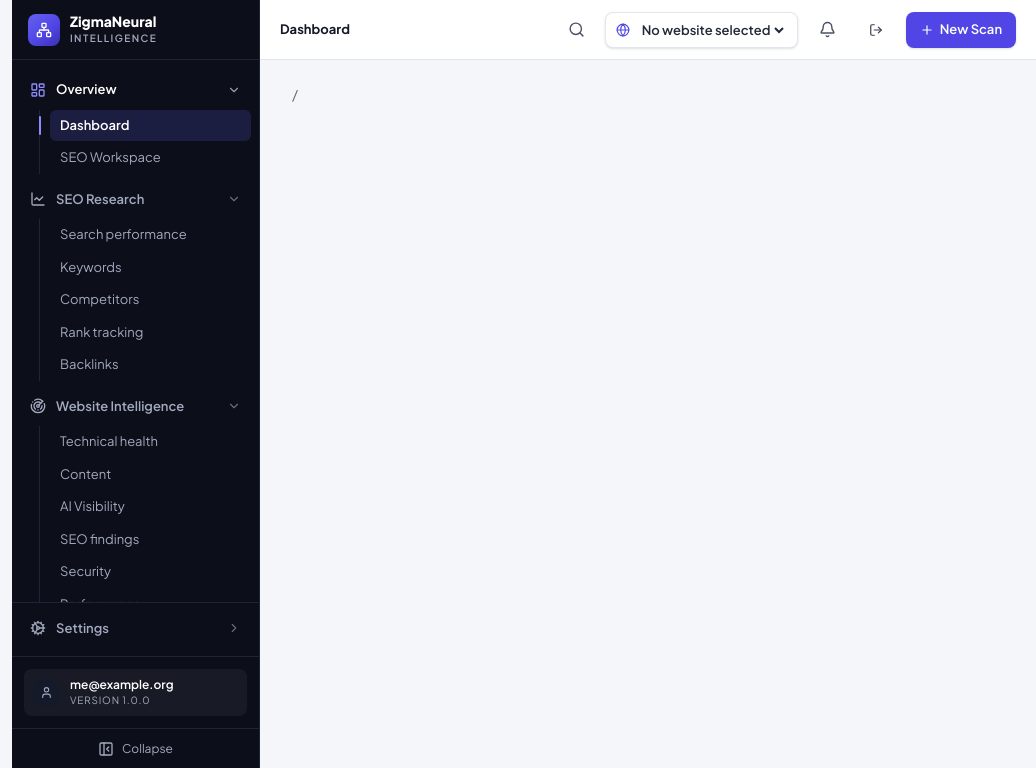
Shell navigation › collapses the sidebar to an icon rail and persists it
Click the button with aria-label "Collapse sidebar" at (136, 748), box 12,728 -> 259,767
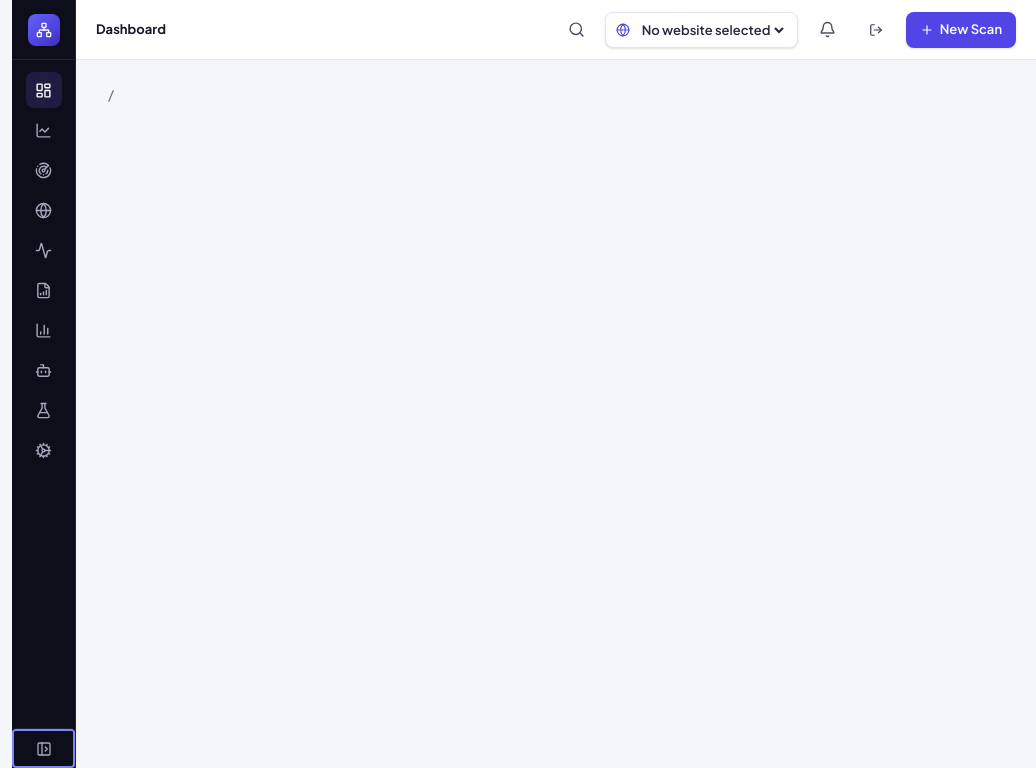
Expected: the link named "SEO Research" is shown, 35,122 -> 52,138
